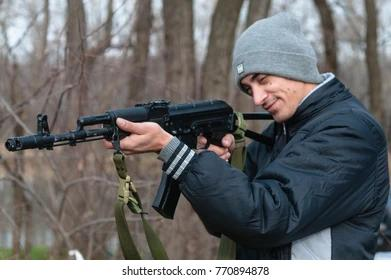larga: (4, 99, 283, 219)
